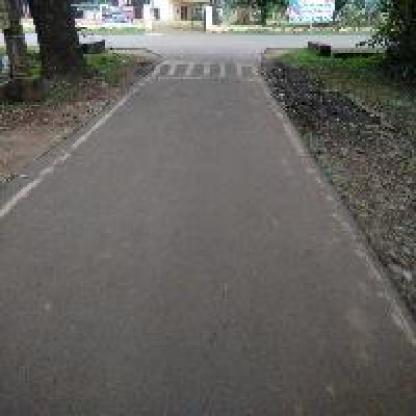Speed Bump: (148, 58, 262, 81)
